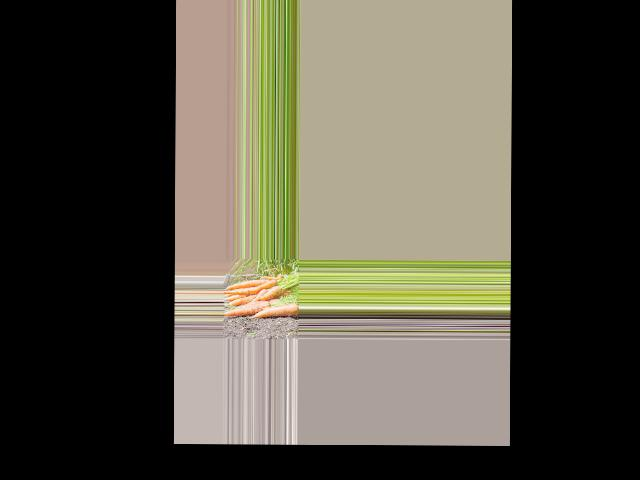carrot: (223, 279, 278, 294)
